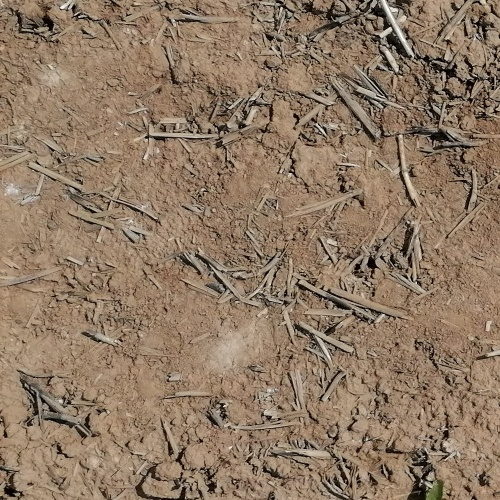beet: (415, 478, 448, 500)
